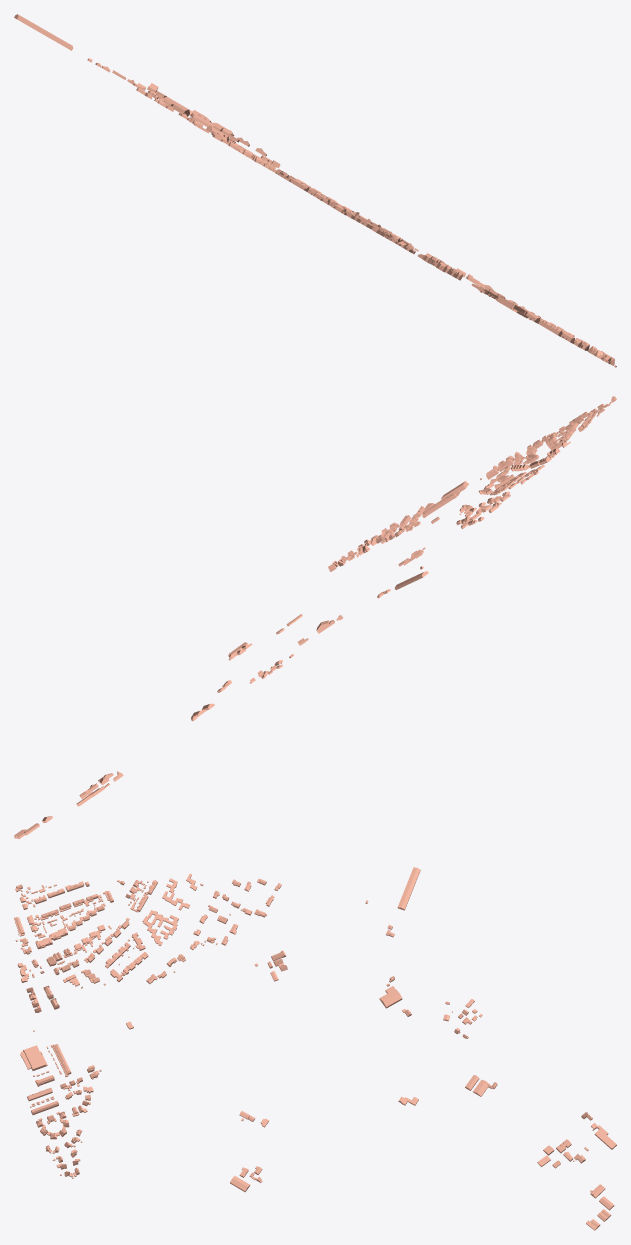
The picture shows the model from 3 angles, top to bottom: view 1: azimuth 30°, elevation 25°; view 2: azimuth 150°, elevation 25°; view 3: azimuth 270°, elevation 25°; orthographic projection. The views are drawn at different scales.
Bounding box in the file's own units: 653 × 538 × 1259.
